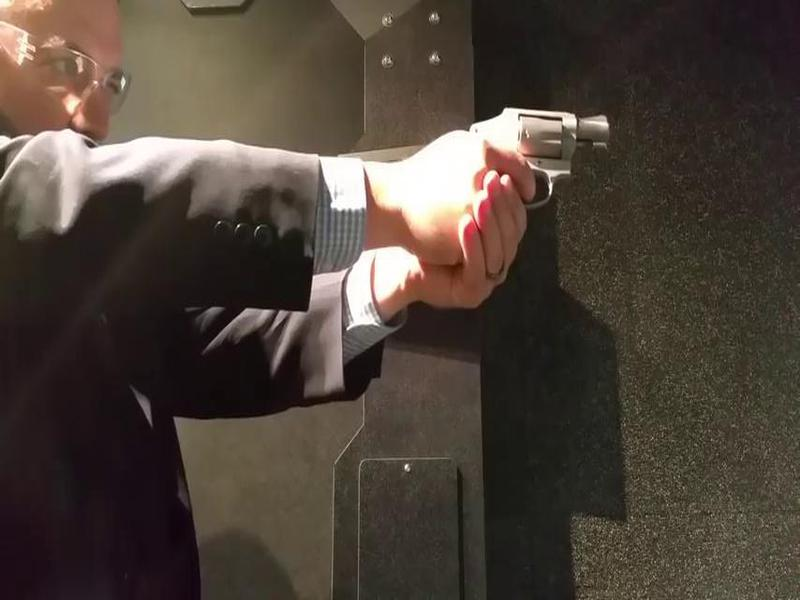Revolver: (430, 70, 615, 226)
